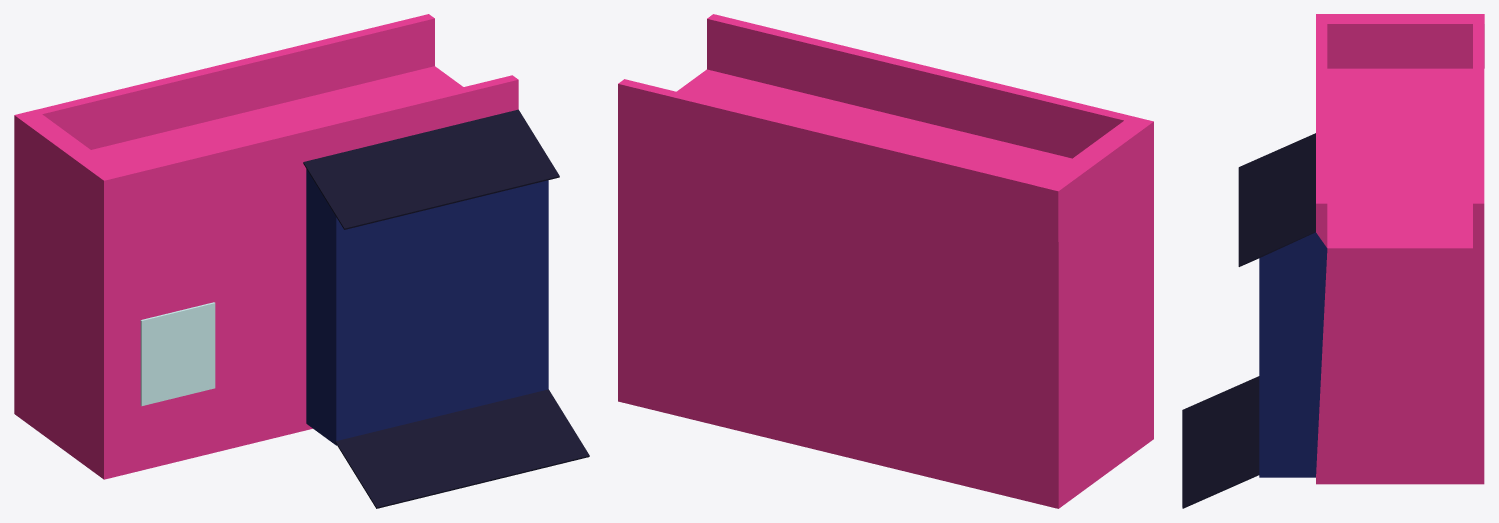
The picture shows the model from 3 angles, left to right: view 1: azimuth 30°, elevation 25°; view 2: azimuth 150°, elevation 25°; view 3: azimuth 270°, elevation 25°; orthographic projection. The views are drawn at different scales.
Parts seen in each view (by area): view 1: Mesh_0.014; view 2: Mesh_0.014; view 3: Mesh_0.014.
Boxes of the visible parts, box(x1,y1,x2,y2) form: Mesh_0.014: box(14, 14, 589, 508); Mesh_0.014: box(618, 14, 1153, 508); Mesh_0.014: box(1182, 14, 1484, 508).
Size of the model in its own units: 4 by 3 by 2.69.
